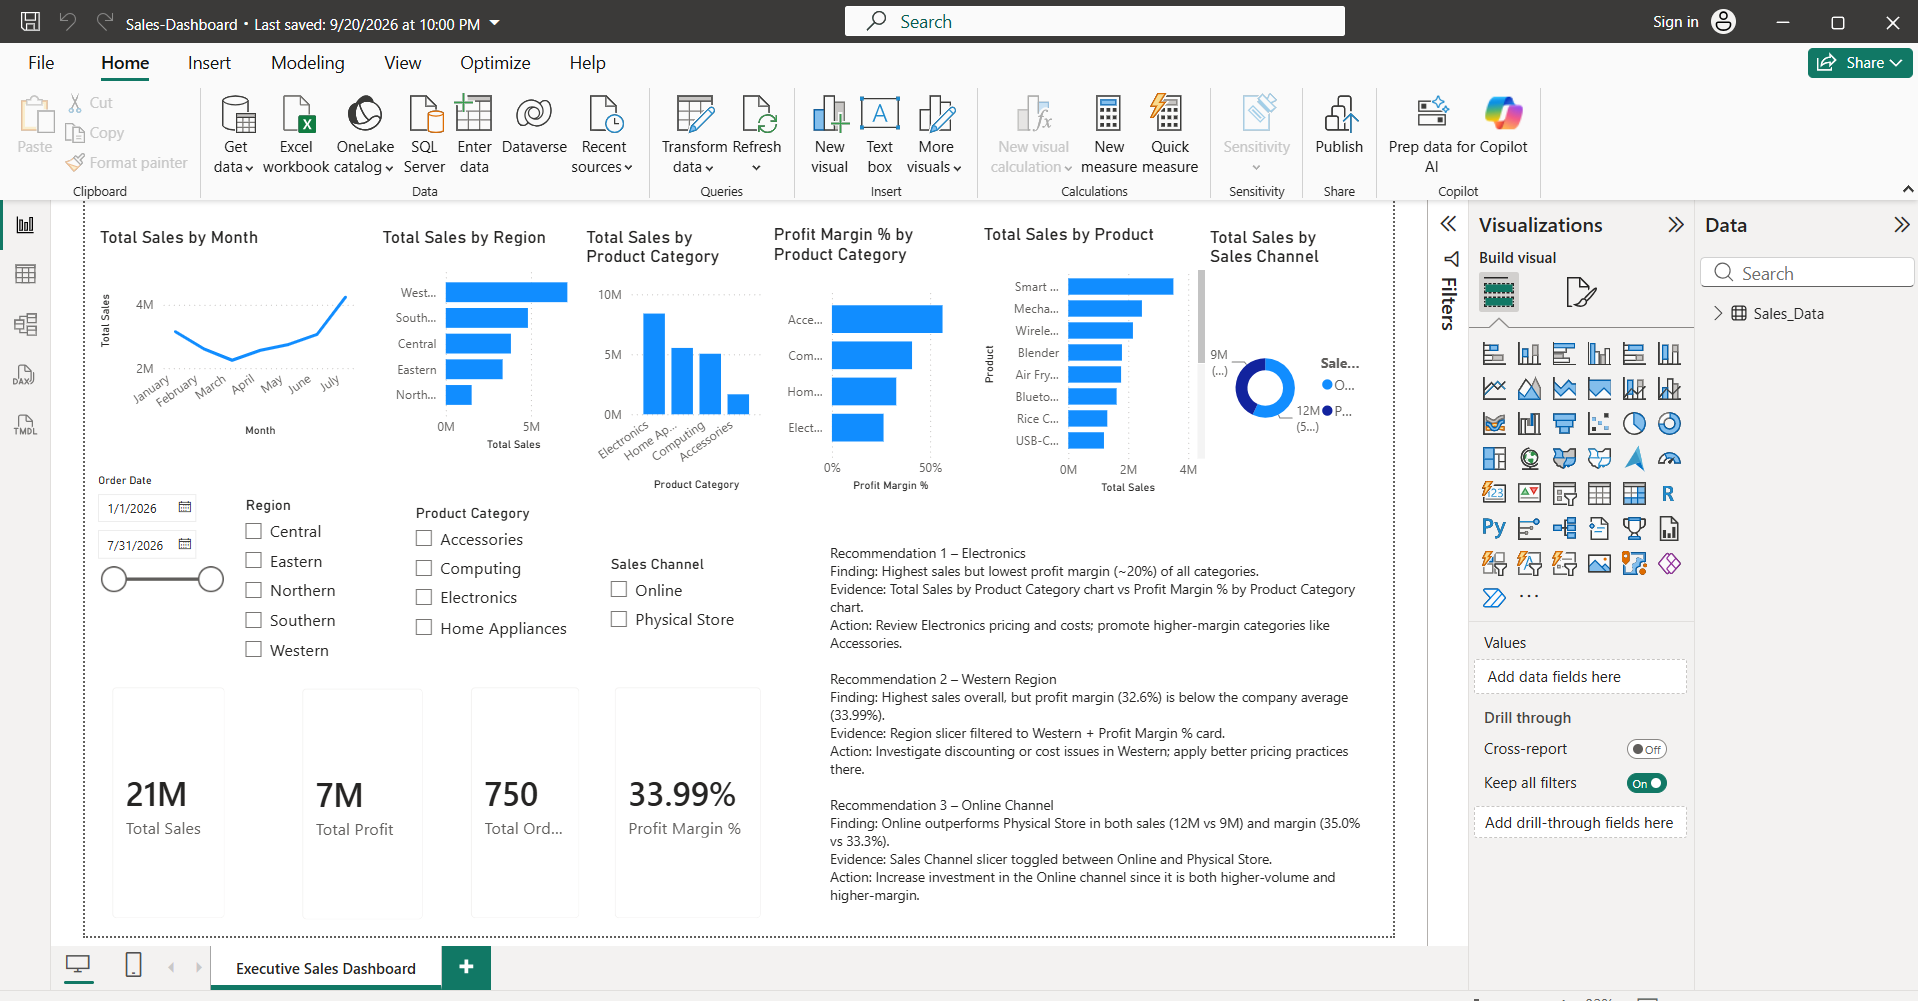

Layout of this report page (visuals, bound fields, positions):
{"tool":"powerbi","page":{"name":"Executive Sales Dashboard","canvas":[1280,720],"ordinal":0},"visuals":[{"type":"slicer","fields":{"Values":["Sales_Data.Order Date"]},"box":[0,263,144.4,196.3],"z":0},{"type":"slicer","fields":{"Values":["Sales_Data.Region"]},"box":[144.4,285.2,166.7,172.8],"z":1000},{"type":"slicer","fields":{"Values":["Sales_Data.Sales Channel"]},"box":[501.2,342,167.9,116],"z":2000},{"type":"slicer","fields":{"Values":["Sales_Data.Product Category"]},"box":[311.1,292.6,174.1,187.7],"z":3000},{"type":"clusteredBarChart","fields":{"Category":["Sales_Data.Region"],"Y":["Sales_Data.Total Sales"]},"box":[285.7,25.7,214.3,224.3],"z":4000},{"type":"clusteredColumnChart","fields":{"Category":["Sales_Data.Product Category"],"Y":["Sales_Data.Total Sales"]},"box":[485.7,25.7,181.2,263.8],"z":5000},{"type":"clusteredBarChart","fields":{"Category":["Sales_Data.Product Category"],"Y":["Sales_Data.Profit Margin %"]},"box":[668.6,22.9,194.3,267.1],"z":6000},{"type":"clusteredBarChart","fields":{"Category":["Sales_Data.Product"],"Y":["Sales_Data.Total Sales"]},"box":[874.3,22.9,227.1,268.6],"z":7000},{"type":"donutChart","fields":{"Category":["Sales_Data.Sales Channel"],"Y":["Sales_Data.Total Sales"]},"box":[1095.7,25.7,165.3,263.9],"z":8000},{"type":"lineChart","fields":{"Category":["Sales_Data.Order Date.Variation.Date Hierarchy.Month","Sales_Data.Order Date.Variation.Date Hierarchy.Day"],"Y":["Sales_Data.Total Sales"]},"box":[10,26,261.3,210.7],"z":9000},{"type":"cardVisual","fields":{"Data":["Sales_Data.Total Sales"]},"box":[9.9,459.3,144.3,260],"z":10000},{"type":"cardVisual","fields":{"Data":["Sales_Data.Total Profit"]},"box":[195.1,460.5,152.9,260],"z":11000},{"type":"cardVisual","fields":{"Data":["Sales_Data.Total Orders"]},"box":[360.5,459.3,140,260],"z":12000},{"type":"cardVisual","fields":{"Data":["Sales_Data.Profit Margin %"]},"box":[501.2,459.3,177.8,260.5],"z":13000},{"type":"textbox","box":[723.5,330.9,538.3,375.3],"z":14000}]}

Visuals, with their boxes on the page's 1280x720 design canvas (x1, y1, x2, y2). These are canvas units, not pixel positions in the 1918x1001 screenshot, which may show the page scaled, cropped or inside an application window:
slicer - Sales_Data.Order Date: region(0, 263, 144, 459)
slicer - Sales_Data.Region: region(144, 285, 311, 458)
slicer - Sales_Data.Sales Channel: region(501, 342, 669, 458)
slicer - Sales_Data.Product Category: region(311, 293, 485, 480)
clusteredBarChart - Sales_Data.Region x Sales_Data.Total Sales: region(286, 26, 500, 250)
clusteredColumnChart - Sales_Data.Product Category x Sales_Data.Total Sales: region(486, 26, 667, 290)
clusteredBarChart - Sales_Data.Product Category x Sales_Data.Profit Margin %: region(669, 23, 863, 290)
clusteredBarChart - Sales_Data.Product x Sales_Data.Total Sales: region(874, 23, 1101, 292)
donutChart - Sales_Data.Sales Channel x Sales_Data.Total Sales: region(1096, 26, 1261, 290)
lineChart - Sales_Data.Order Date.Variation.Date Hierarchy.Month x Sales_Data.Order Date.Variation.Date Hierarchy.Day: region(10, 26, 271, 237)
cardVisual - Sales_Data.Total Sales: region(10, 459, 154, 719)
cardVisual - Sales_Data.Total Profit: region(195, 460, 348, 720)
cardVisual - Sales_Data.Total Orders: region(360, 459, 500, 719)
cardVisual - Sales_Data.Profit Margin %: region(501, 459, 679, 720)
textbox: region(724, 331, 1262, 706)
